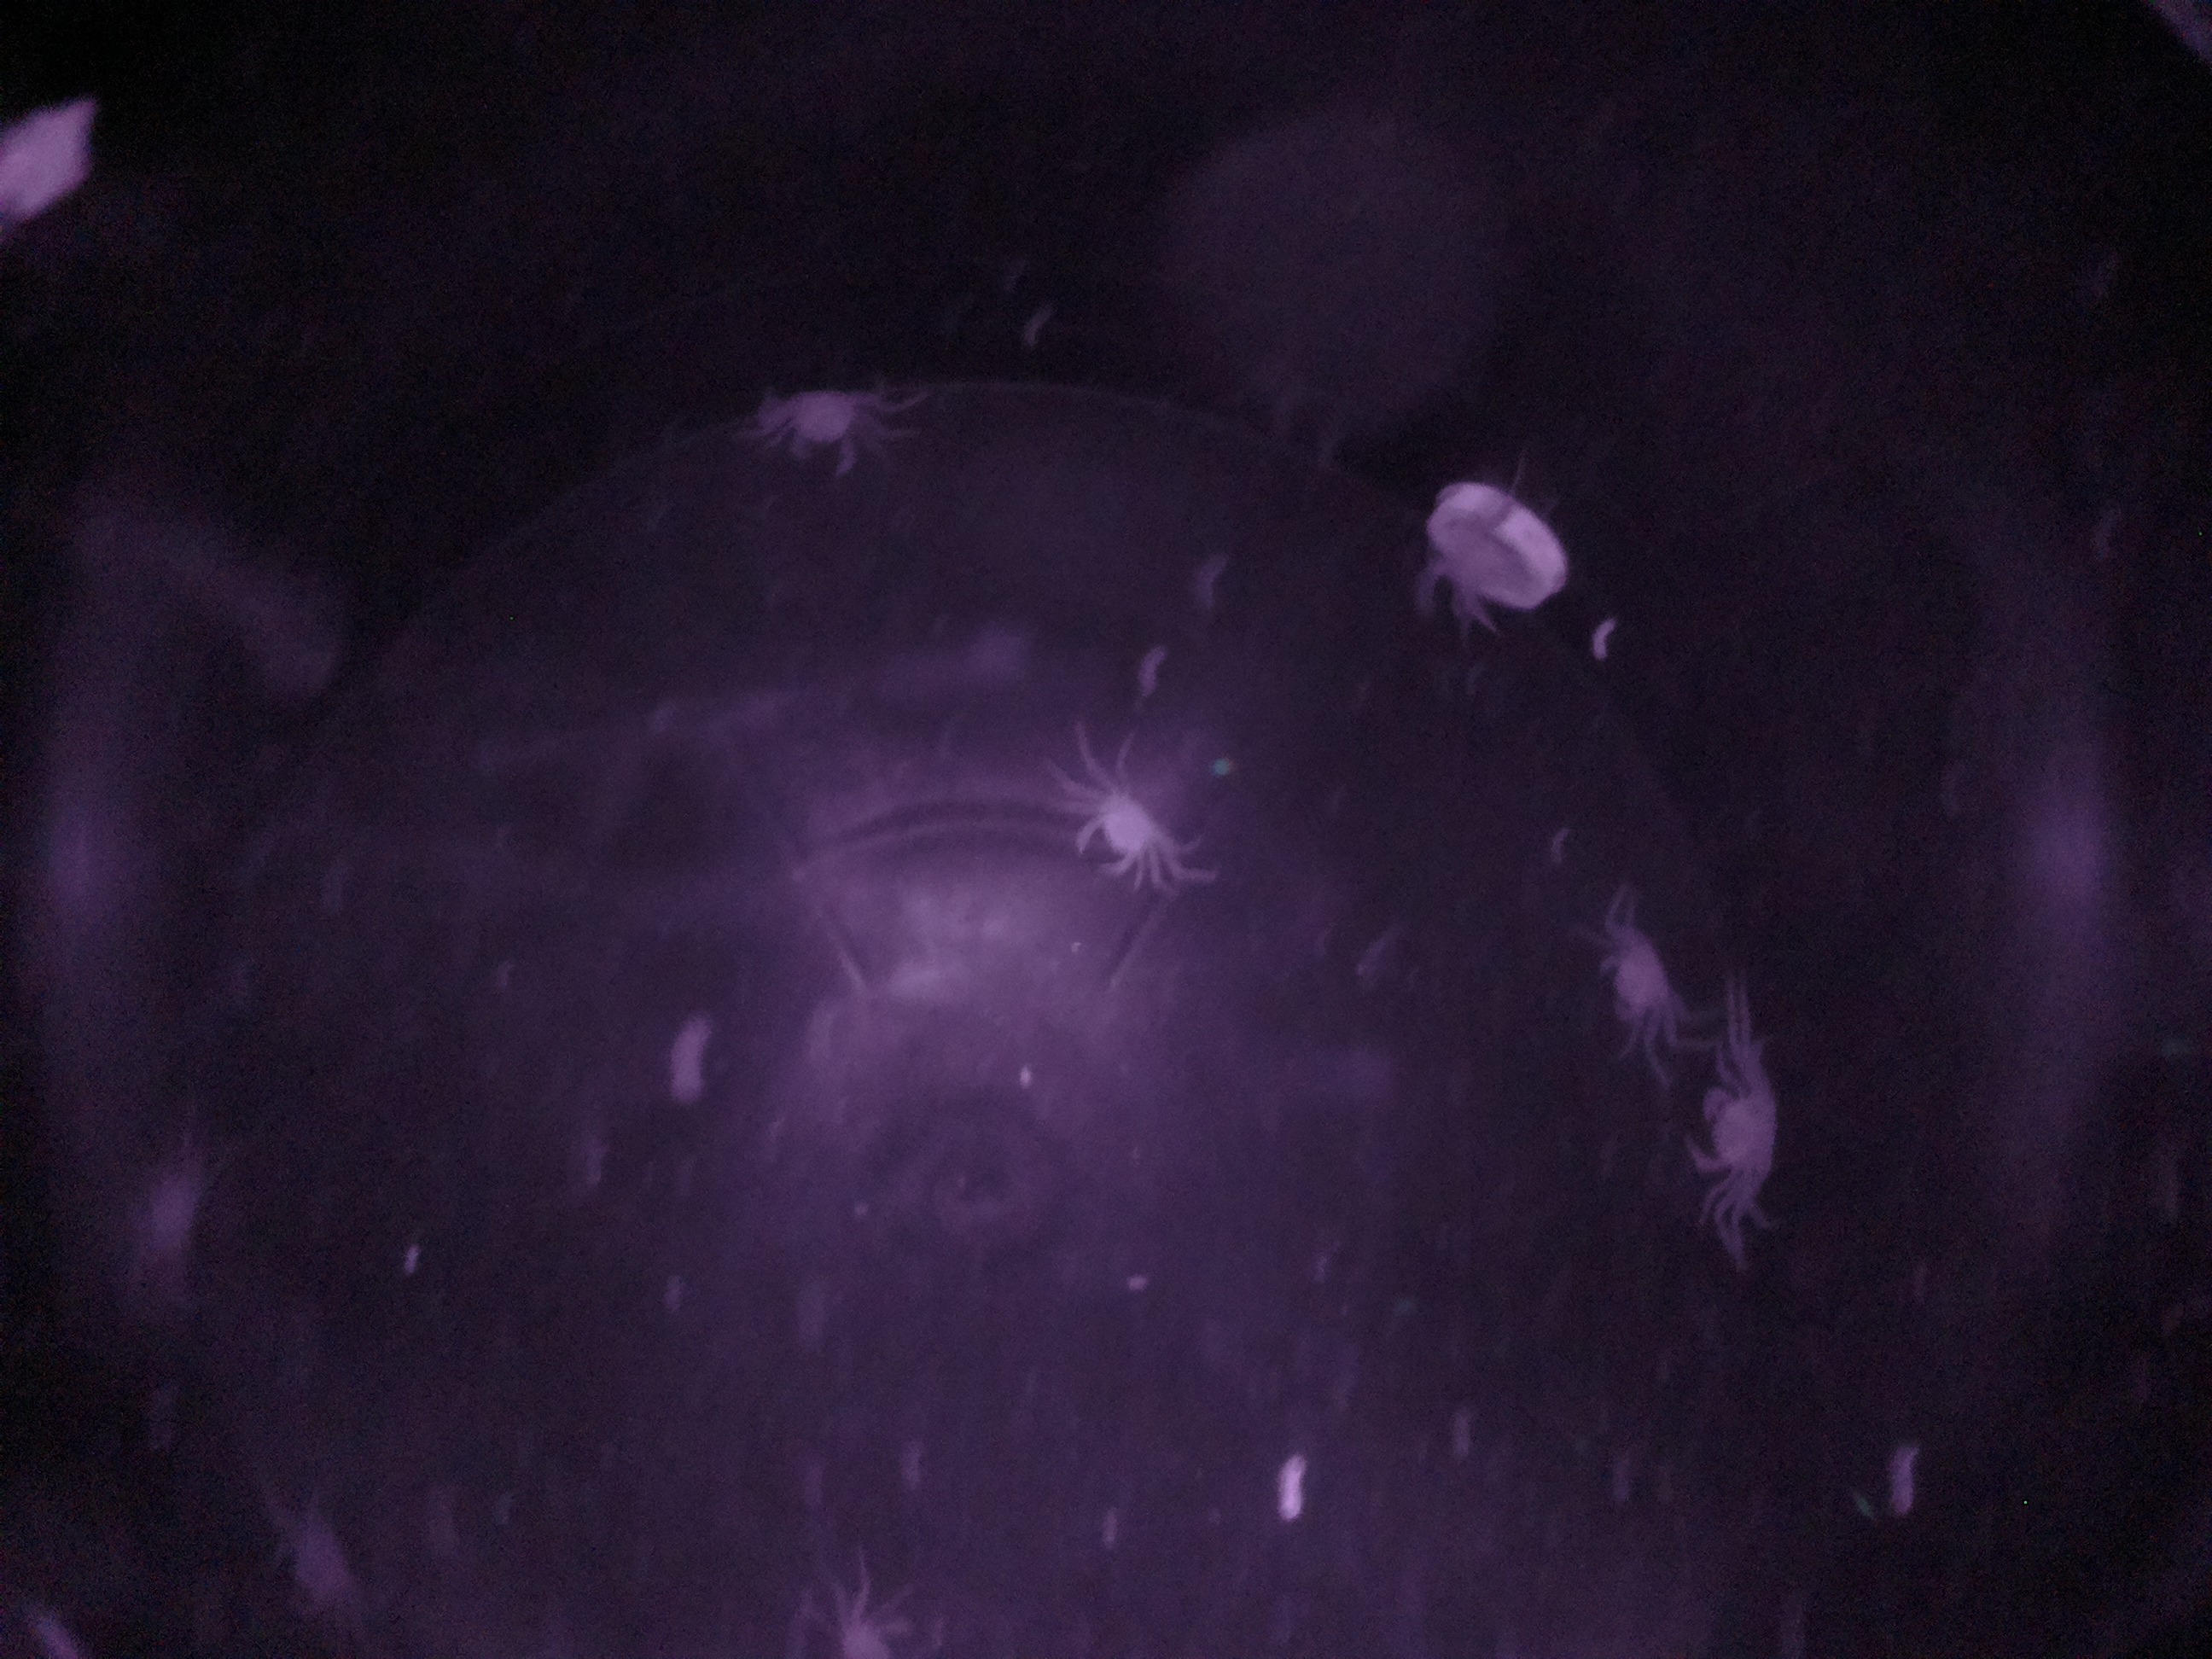Crab: (1663, 1049, 1831, 1208), (1057, 758, 1193, 903)
